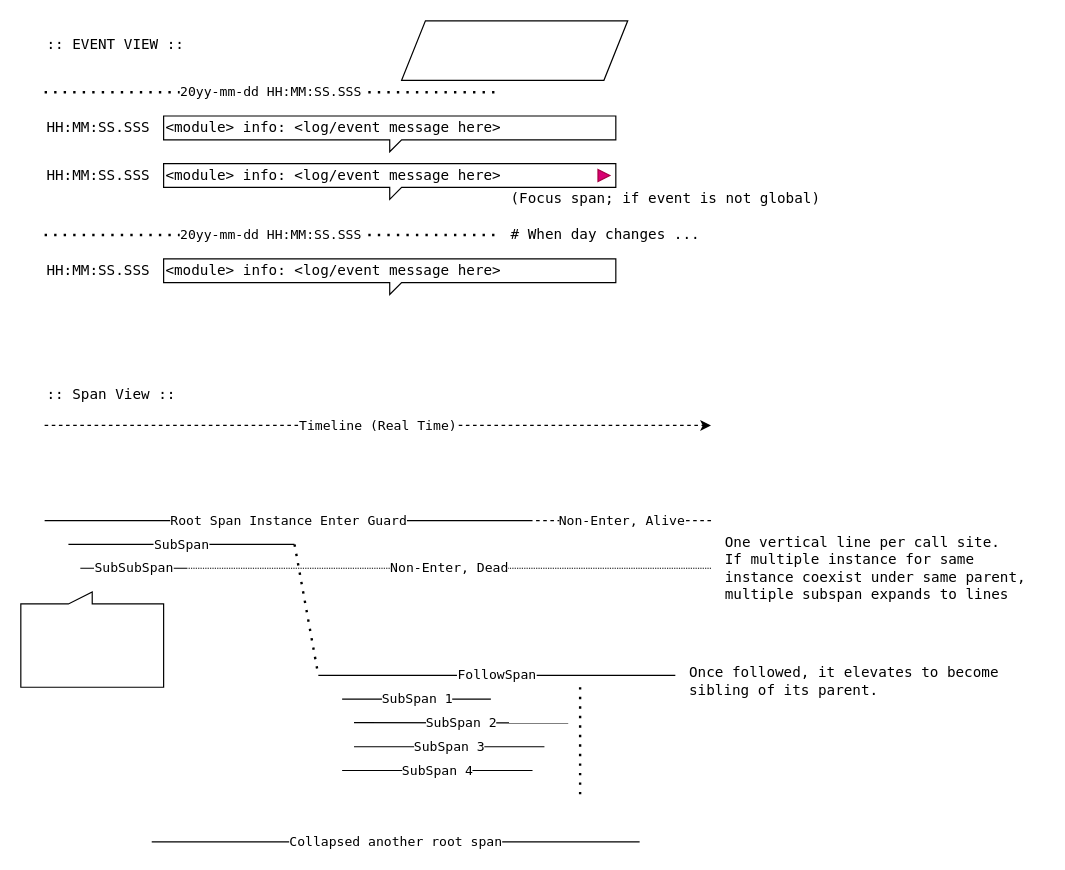
The diagram is 1065 pixels wide and 870 high, and some of its shapes have lost their labels. The shapes that lost their labels are listed below. From the top down, each one's centre as x and y in pixels, then its label:
At point 514,50: "On mouse up: Shows time distance from last event".
At point 92,639: "Mouse Up: Show Records".
